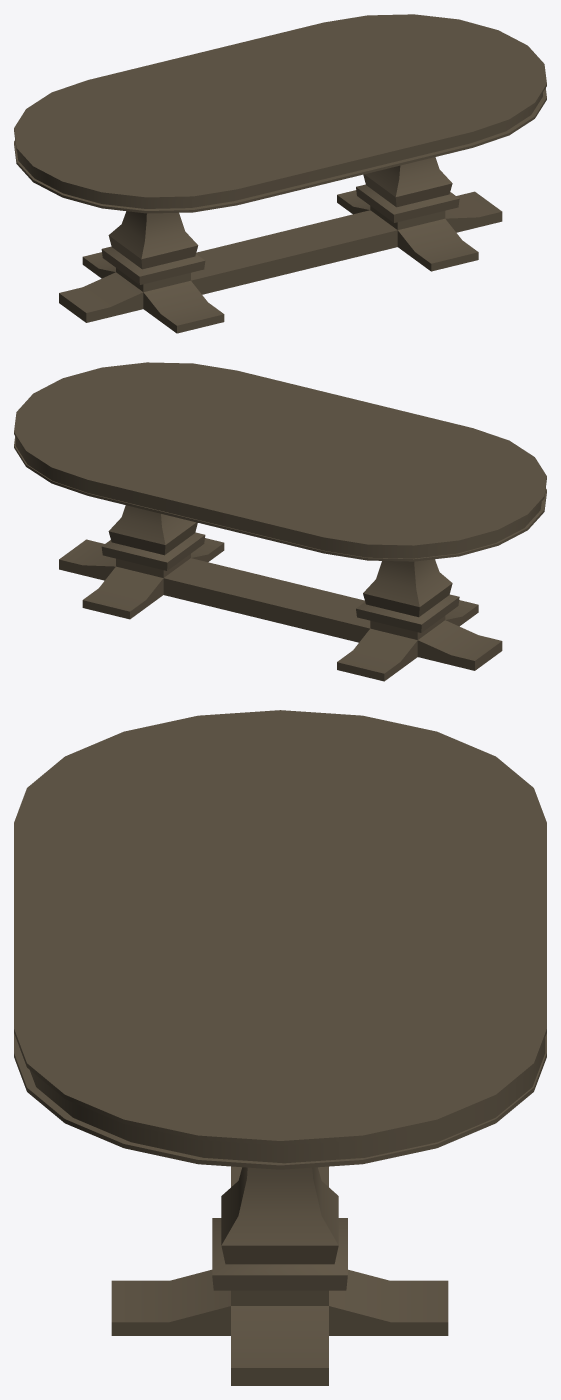
File: Table_RoundLarge.glb
3 views of the same model, one above another, from view 1: azimuth 30°, elevation 25°; view 2: azimuth 150°, elevation 25°; view 3: azimuth 270°, elevation 25° (orthographic). The views are drawn at different scales.
Visible parts, largest first — view 1: Table_RoundLarge; view 2: Table_RoundLarge; view 3: Table_RoundLarge.
Boxes of the visible parts, x1,y1,x2,y2 form: Table_RoundLarge: (14, 14, 546, 333); Table_RoundLarge: (14, 362, 546, 681); Table_RoundLarge: (14, 710, 546, 1385).
Bounding box in the file's own units: 3.71 × 1.12 × 1.94.
